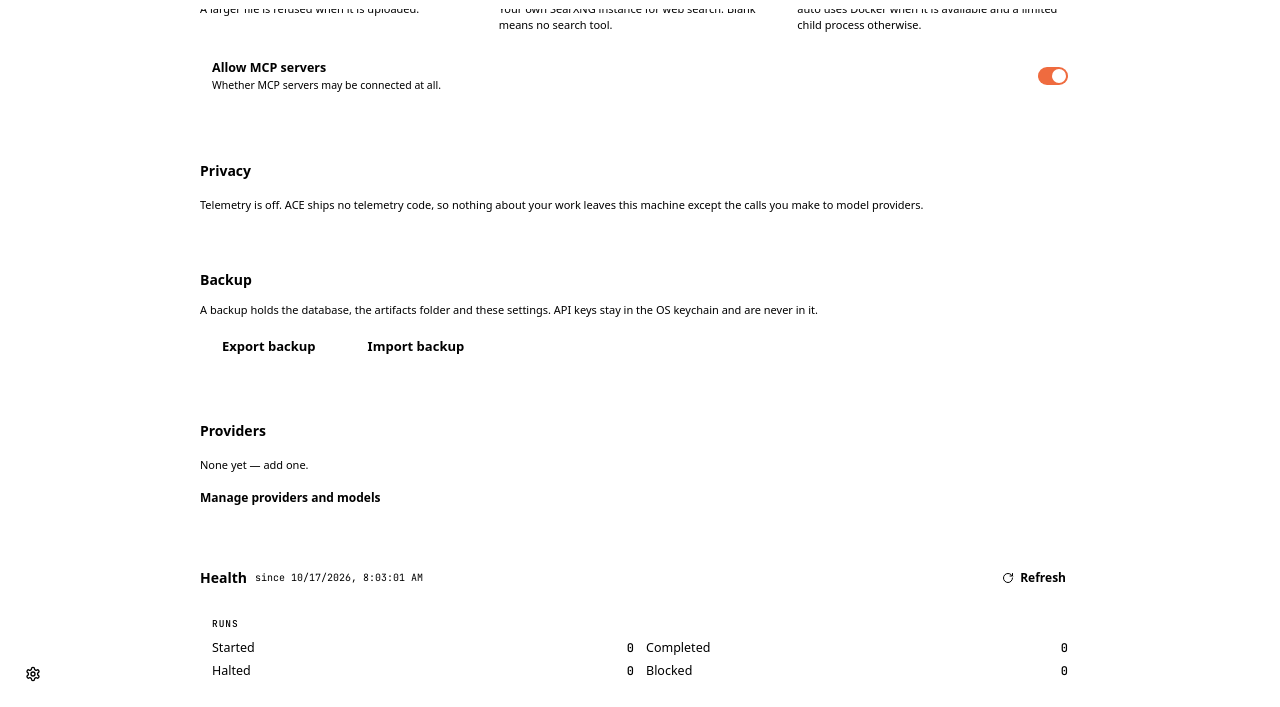
Scenario: FR-SYS-012 Backup › Export shows the error when the engine refuses
The width and height of the screenshot is (1280, 707).
(page scrolled)
Step 1. Click the button with test id "backup-export" → click(269, 347), box [200,330,338,364]
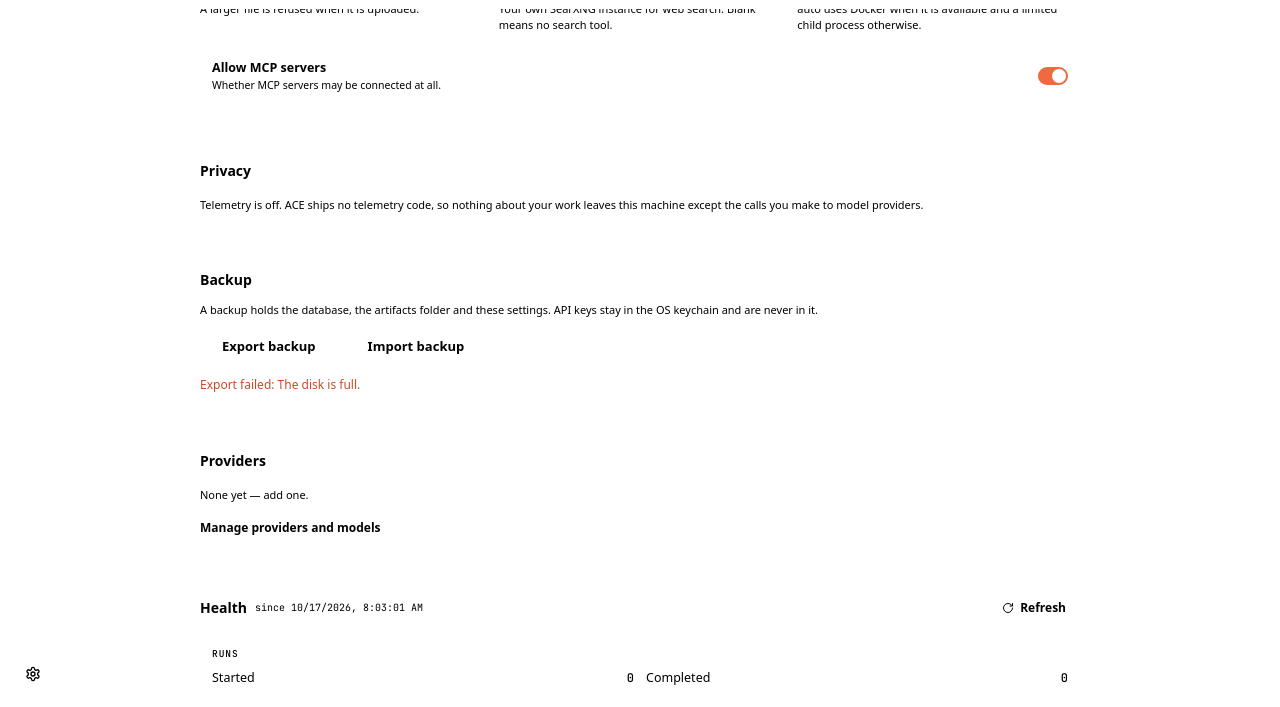
Expected: the message with test id "backup-export-error" shows "The disk is full.", [278,376,360,393]
